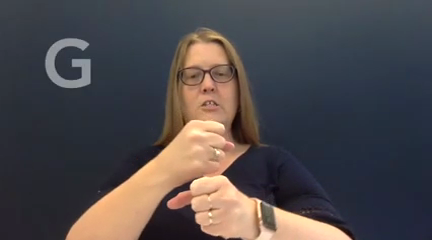G: (161, 114, 270, 239)
